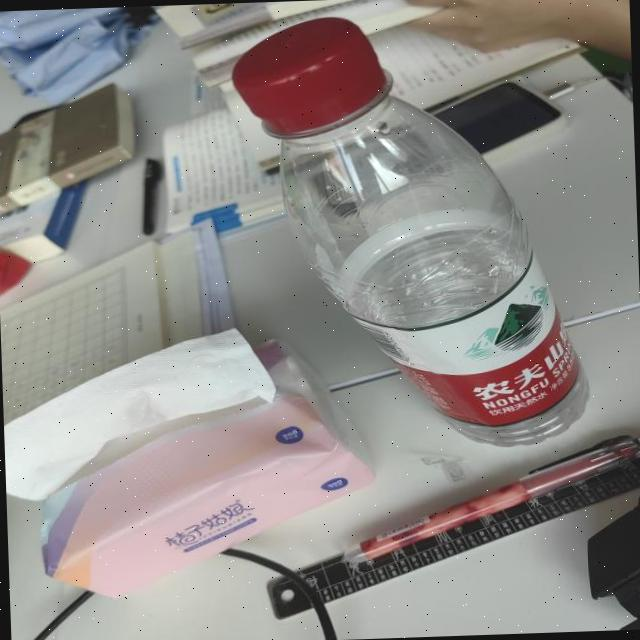bottle: (204, 6, 592, 462)
cap: (231, 17, 397, 146)
label: (352, 296, 582, 426)
